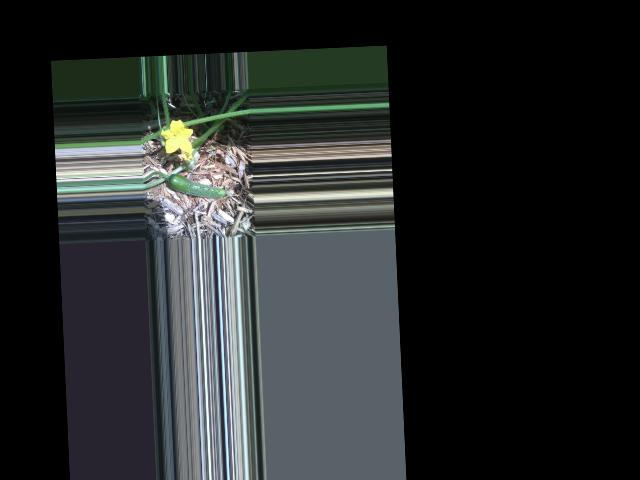cucumber: (166, 170, 232, 201)
